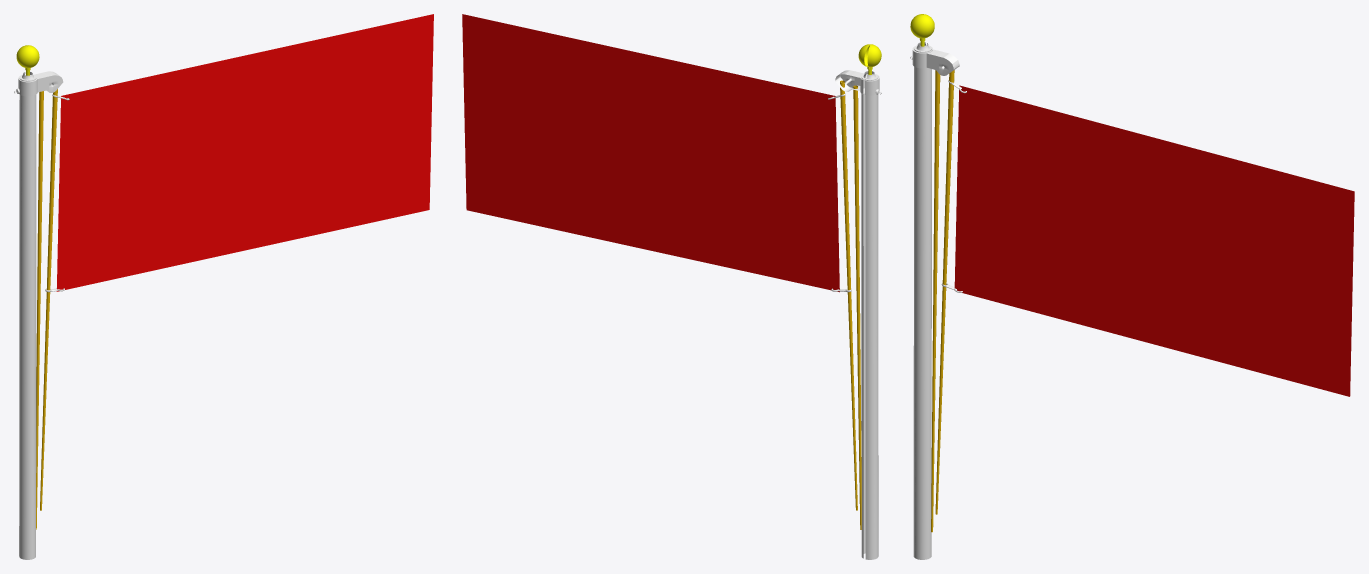
File: flag export selection fbx.fbx
3 views of the same model, side by side, from view 1: azimuth 30°, elevation 25°; view 2: azimuth 150°, elevation 25°; view 3: azimuth 330°, elevation 25° (orthographic). The views are drawn at different scales.
Parts seen in each view (by area): view 1: pPlane3, flag_part2, extrudedSurface2, extrudedSurface3; view 2: pPlane3, flag_part2, extrudedSurface3, extrudedSurface2; view 3: pPlane3, flag_part2, extrudedSurface3, extrudedSurface2, plag_part.
Boxes of the visible parts, x1,y1,x2,y2 form: pPlane3: (56,14,433,291); flag_part2: (19,72,36,559); extrudedSurface2: (40,89,57,510); extrudedSurface3: (36,91,43,529); pPlane3: (462,14,839,292); flag_part2: (861,71,878,559); extrudedSurface3: (853,85,861,529); extrudedSurface2: (840,80,857,510); pPlane3: (954,85,1354,396); flag_part2: (913,42,931,559); extrudedSurface3: (931,70,940,532); extrudedSurface2: (935,70,954,514); plag_part: (926,49,959,75).
Bounding box in the file's own units: 6.19 × 7.19 × 0.2957.
